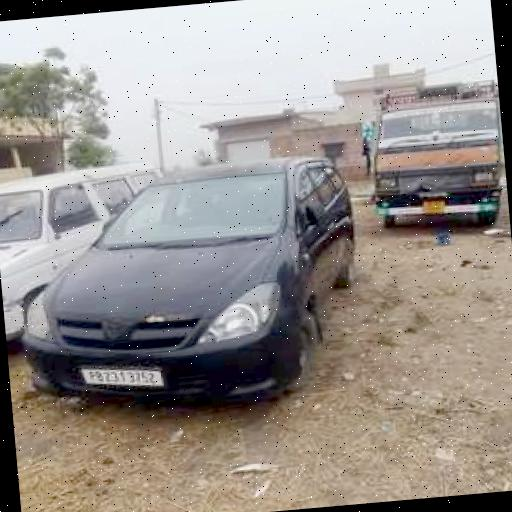license_plate`: (78, 360, 160, 391)
